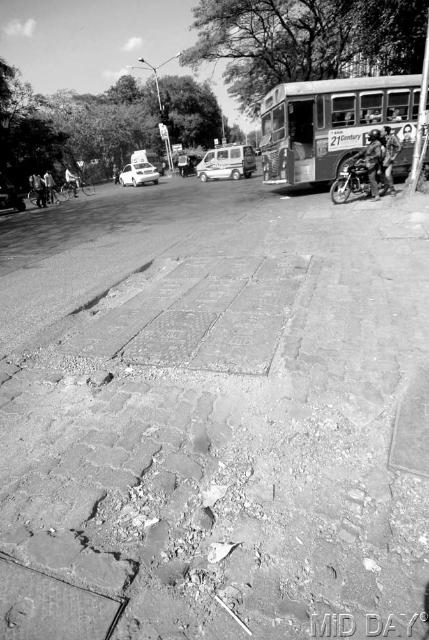Pothole: (55, 358, 429, 640), (71, 260, 189, 322)
